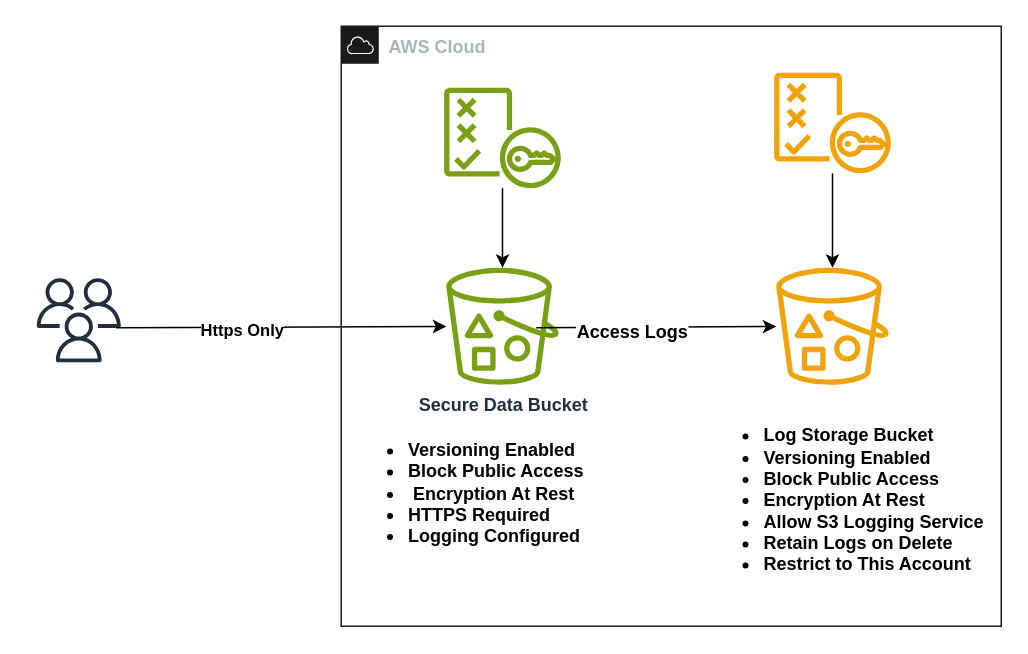
The diagram is 1028 pixels wide and 654 high, and some of its shapes have lost their labels. The centre of each missing label's shape, as x and y in pixels:
Access Logs Bucket: the point at 832,325
Users: the point at 78,319
